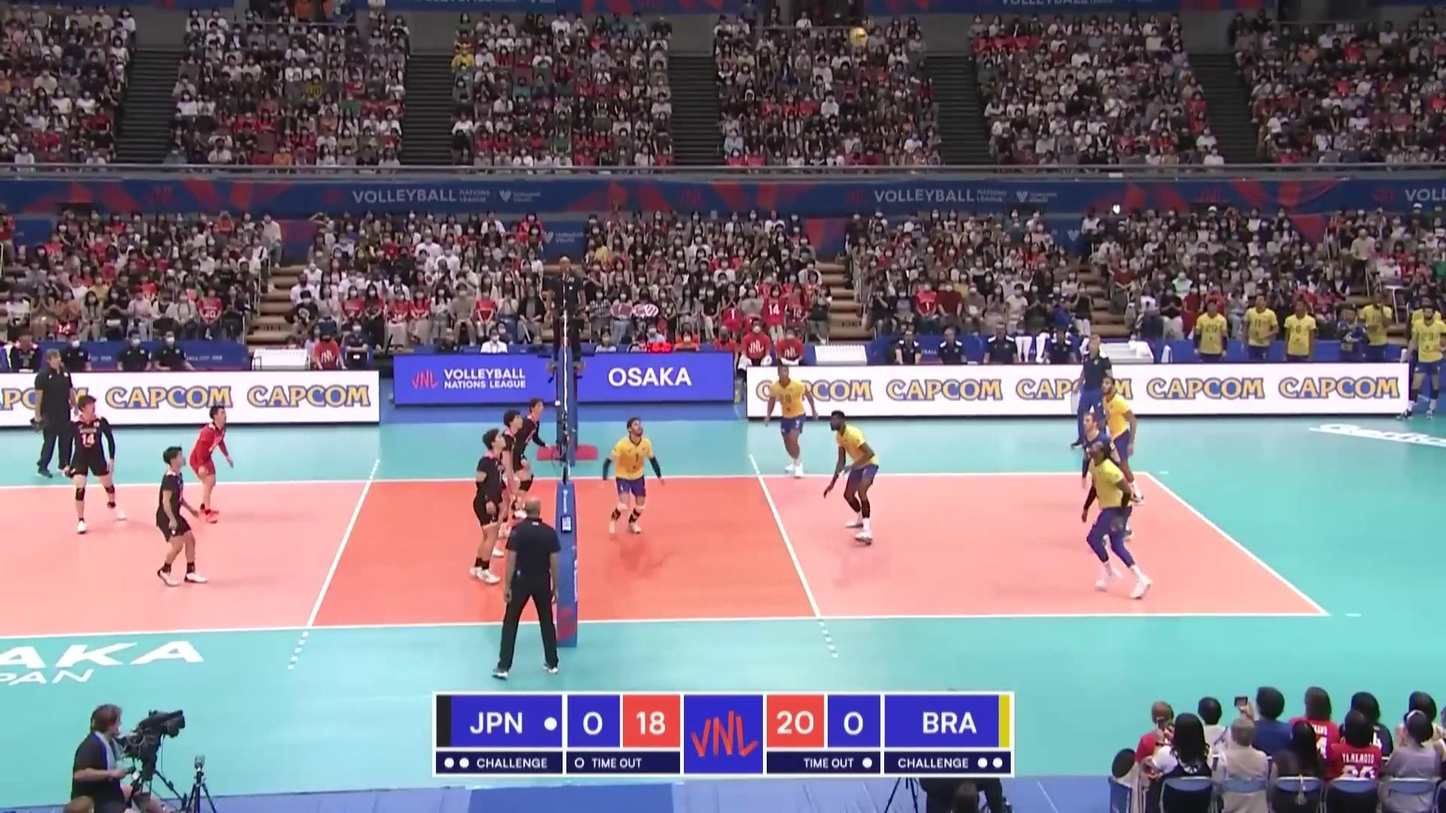player: (1083, 440, 1152, 599), (153, 452, 213, 586), (63, 398, 121, 535), (823, 409, 881, 545), (1075, 415, 1134, 542), (604, 416, 660, 535), (466, 430, 508, 585), (1098, 377, 1145, 504), (189, 405, 237, 517), (487, 413, 524, 558), (768, 366, 813, 480), (506, 397, 546, 518)
refree: (499, 498, 561, 680), (549, 257, 584, 369)
